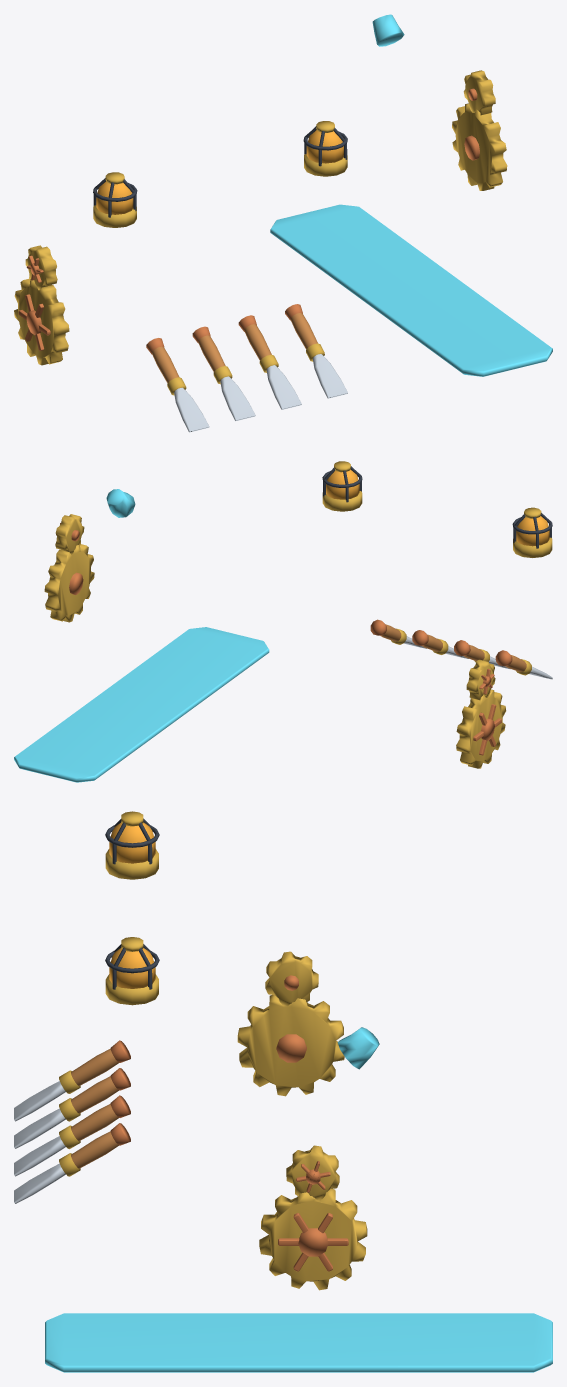
Rendered from ChiselMill_T2_Upgrades.fbx.
The picture shows the model from 3 angles, top to bottom: view 1: azimuth 30°, elevation 25°; view 2: azimuth 150°, elevation 25°; view 3: azimuth 270°, elevation 25°; orthographic projection. The views are drawn at different scales.
Parts seen in each view (by area): view 1: ChiselMillT2U5GlowWaterGlow, ChiselMillT2U1Chisels, ChiselMillT2U3Gear2, ChiselMillT2U3Gear1, ChiselMillT2U2Lamp1, ChiselMillT2U2Lamp2, ChiselMillT2U3Pinion1, ChiselMillT2U3Pinion2, ChiselMillT2U2Lamp1Glow, ChiselMillT2U2Lamp2Glow; view 2: ChiselMillT2U5GlowWaterGlow, ChiselMillT2U3Gear1, ChiselMillT2U3Gear2, ChiselMillT2U1Chisels, ChiselMillT2U2Lamp2, ChiselMillT2U2Lamp1, ChiselMillT2U3Pinion2, ChiselMillT2U3Pinion1, ChiselMillT2U2Lamp2Glow, ChiselMillT2U2Lamp1Glow; view 3: ChiselMillT2U5GlowWaterGlow, ChiselMillT2U1Chisels, ChiselMillT2U3Gear1, ChiselMillT2U3Gear2, ChiselMillT2U3Pinion2, ChiselMillT2U3Pinion1, ChiselMillT2U2Lamp2, ChiselMillT2U2Lamp1, ChiselMillT2U2Lamp1Glow, ChiselMillT2U2Lamp2Glow.
Part boxes in pixels (x1,y1,x2,y2): ChiselMillT2U5GlowWaterGlow: (270,14,552,376); ChiselMillT2U1Chisels: (146,304,347,432); ChiselMillT2U3Gear2: (14,279,69,365); ChiselMillT2U3Gear1: (452,103,507,190); ChiselMillT2U2Lamp1: (93,172,137,227); ChiselMillT2U2Lamp2: (303,121,347,176); ChiselMillT2U3Pinion1: (463,70,495,115); ChiselMillT2U3Pinion2: (25,245,57,290); ChiselMillT2U2Lamp1Glow: (96,181,133,214); ChiselMillT2U2Lamp2Glow: (306,130,343,163); ChiselMillT2U5GlowWaterGlow: (14,489,269,782); ChiselMillT2U3Gear1: (44,544,94,622); ChiselMillT2U3Gear2: (456,689,506,768); ChiselMillT2U1Chisels: (370,619,552,679); ChiselMillT2U2Lamp2: (322,461,362,511); ChiselMillT2U2Lamp1: (512,507,552,557); ChiselMillT2U3Pinion2: (466,659,495,700); ChiselMillT2U3Pinion1: (55,514,84,554); ChiselMillT2U2Lamp2Glow: (326,469,359,499); ChiselMillT2U2Lamp1Glow: (516,516,549,546); ChiselMillT2U5GlowWaterGlow: (45,1027,552,1372); ChiselMillT2U1Chisels: (14,1040,130,1203); ChiselMillT2U3Gear1: (259,1189,367,1290); ChiselMillT2U3Gear2: (237,995,344,1096); ChiselMillT2U3Pinion2: (265,951,318,1006); ChiselMillT2U3Pinion1: (286,1145,339,1200); ChiselMillT2U2Lamp2: (105,937,159,1005); ChiselMillT2U2Lamp1: (105,811,159,879); ChiselMillT2U2Lamp1Glow: (109,822,155,863); ChiselMillT2U2Lamp2Glow: (109,948,155,988).
Size of the model in its own units: 304 by 162 by 249.
